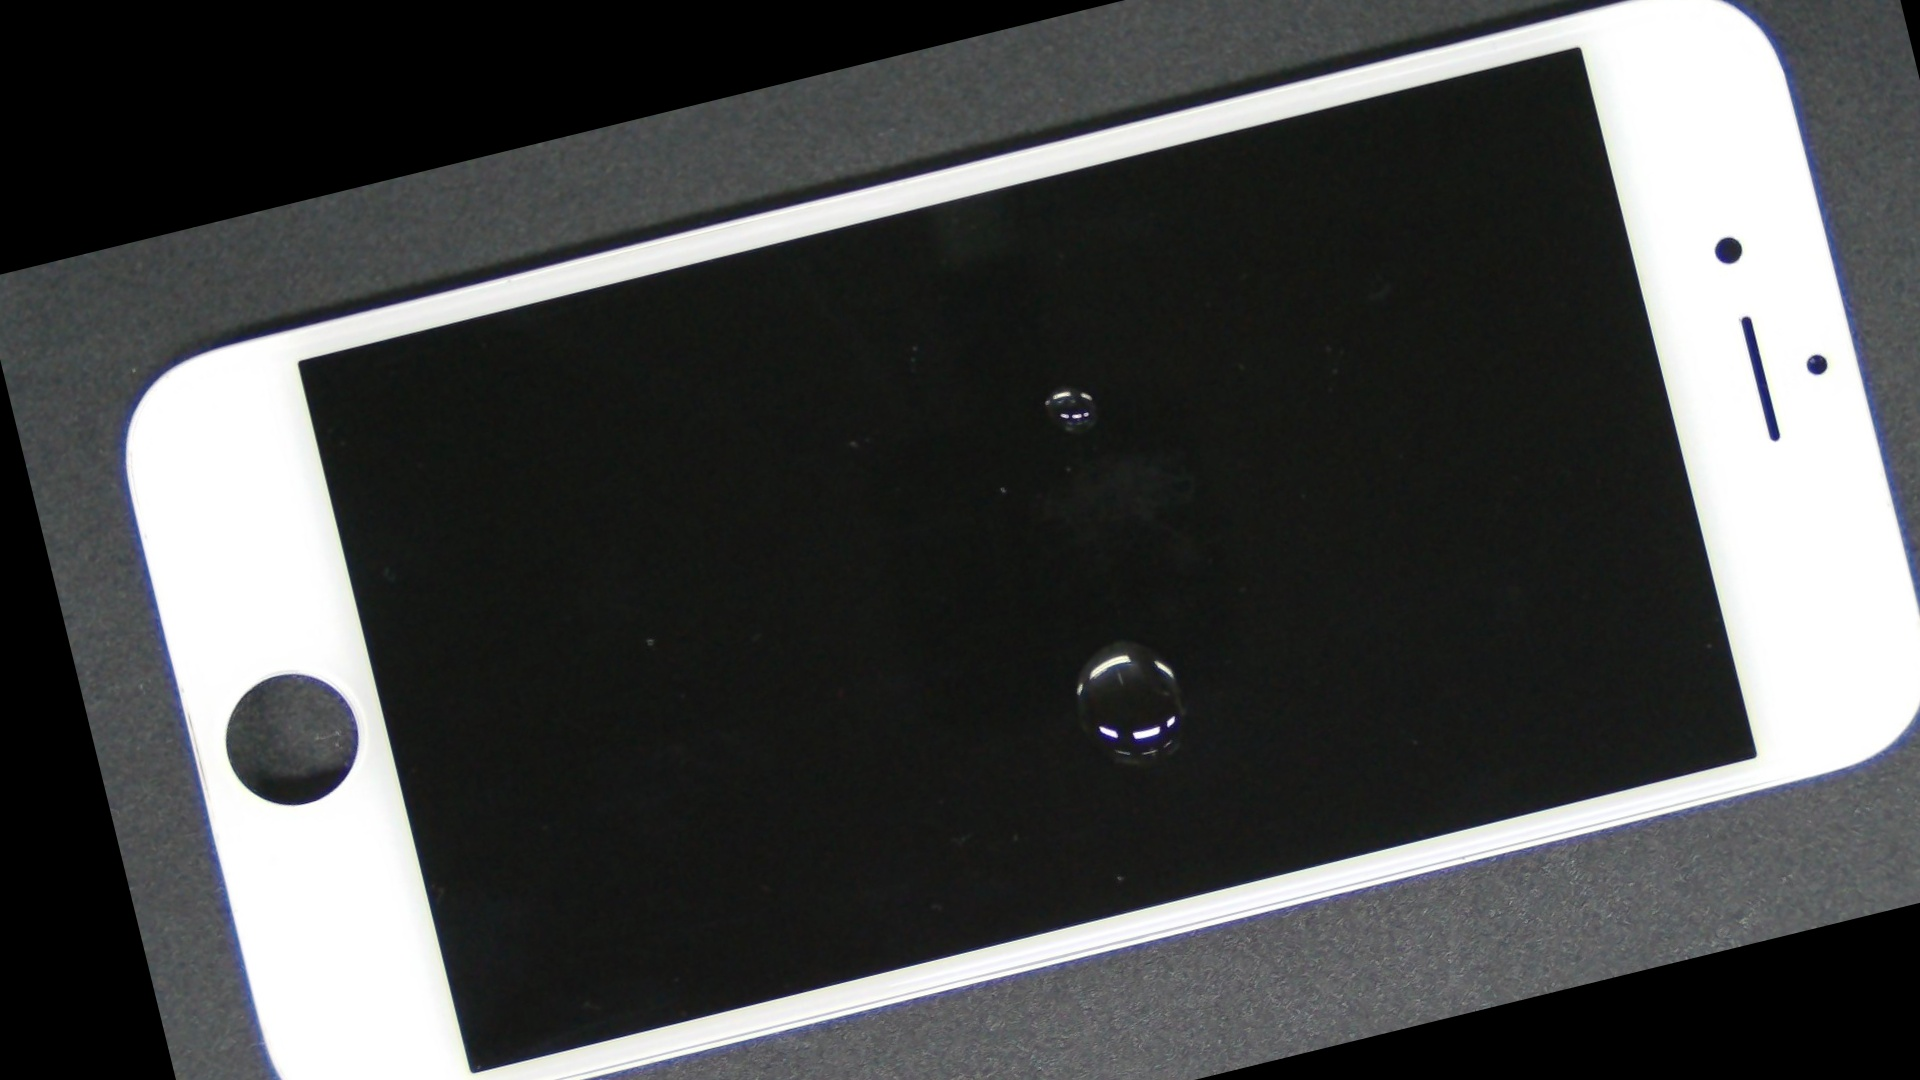oil: (549, 220, 1681, 1065), (520, 92, 1596, 688)
